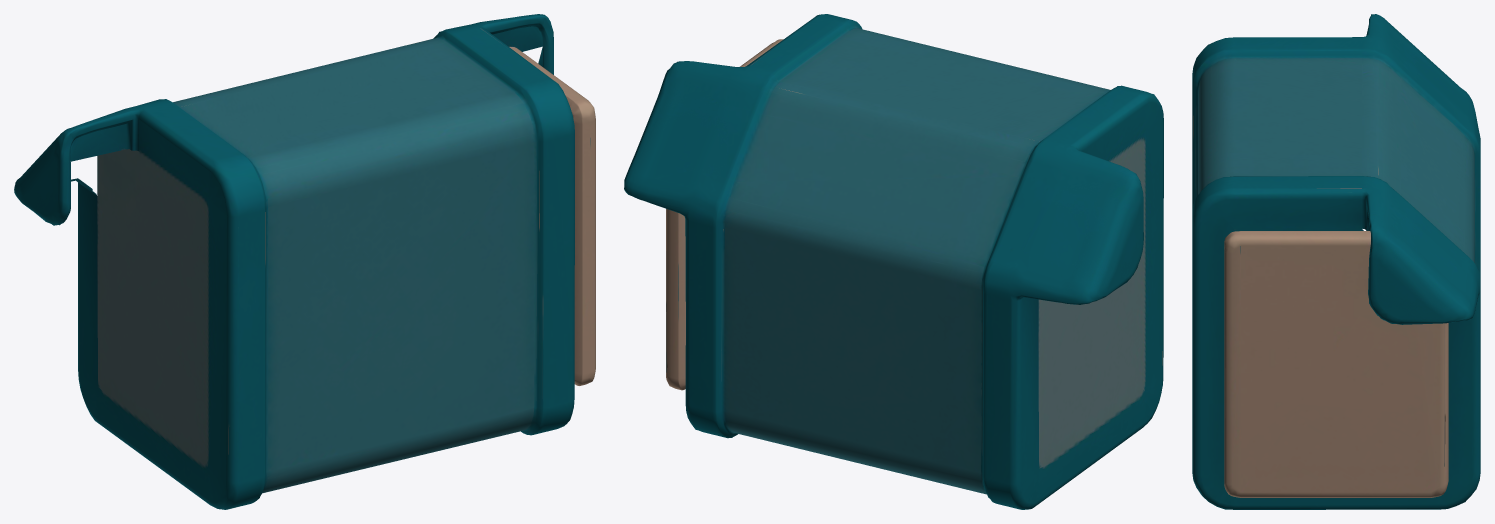
The model's file is icon-document.glb.
3 views of the same model, side by side, from view 1: azimuth 30°, elevation 25°; view 2: azimuth 150°, elevation 25°; view 3: azimuth 270°, elevation 25° (orthographic). The views are drawn at different scales.
Visible parts, largest first — view 1: tripo_node_kodyurd-model-37____________________; view 2: tripo_node_kodyurd-model-37____________________; view 3: tripo_node_kodyurd-model-37____________________.
Boxes of the visible parts, left/top/right/bottom form: tripo_node_kodyurd-model-37____________________: left=14, top=14, right=595, bottom=509; tripo_node_kodyurd-model-37____________________: left=624, top=14, right=1163, bottom=509; tripo_node_kodyurd-model-37____________________: left=1192, top=14, right=1480, bottom=509.
Bounding box in the file's own units: 0.998 × 0.6699 × 0.5449.
1 material, 1 textured.
